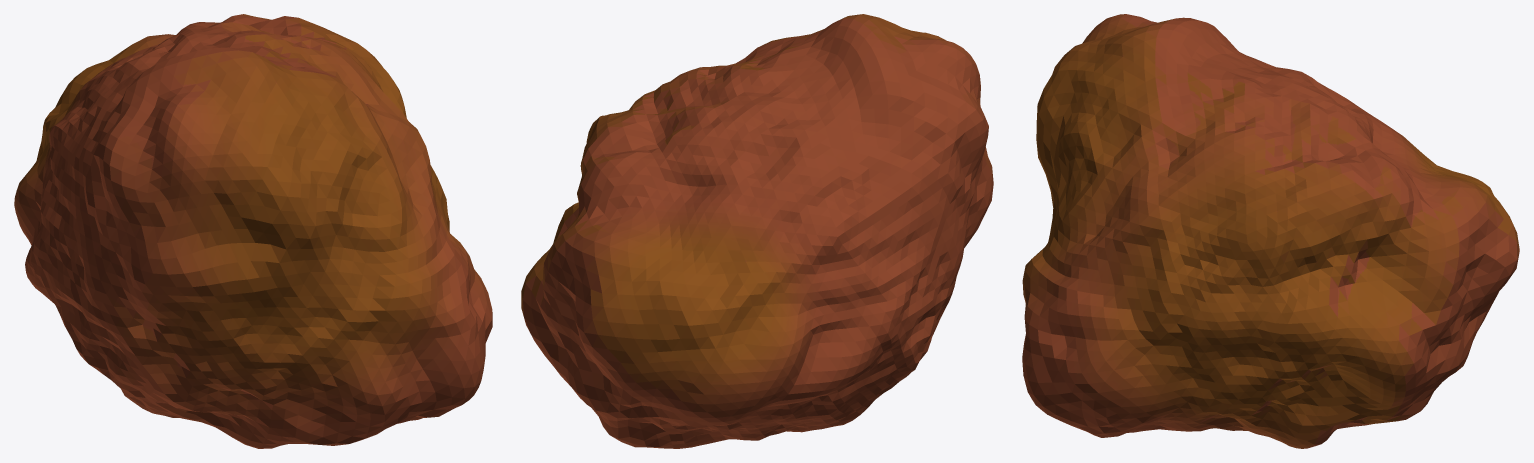
Rendered from egeria.glb.
3 renders of one model, left to right at view 1: azimuth 30°, elevation 25°; view 2: azimuth 150°, elevation 25°; view 3: azimuth 270°, elevation 25°, orthographic. The views are drawn at different scales.
Visible parts, largest first — view 1: Egeria; view 2: Egeria; view 3: Egeria.
Boxes of the visible parts, x1,y1,x2,y2 form: Egeria: (14,14,492,448); Egeria: (521,14,993,448); Egeria: (1022,14,1519,448).
Size of the model in its own units: 2.11 by 2.23 by 2.73.
1 material, 1 textured.
